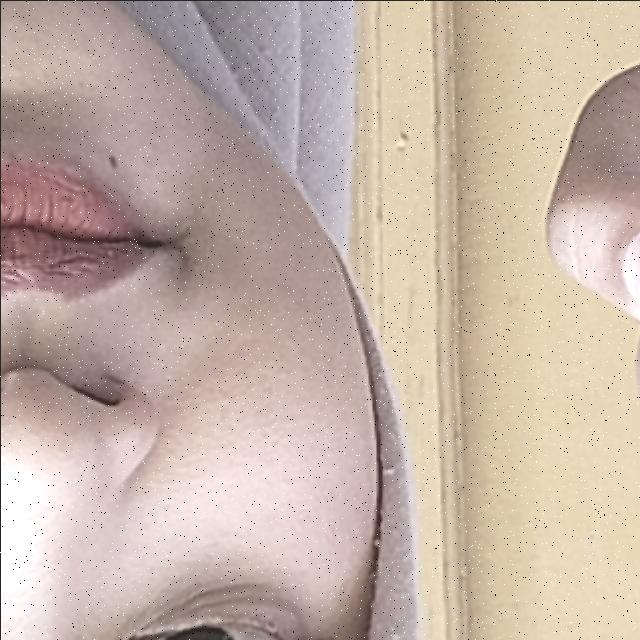baik: (230, 0, 640, 542)
